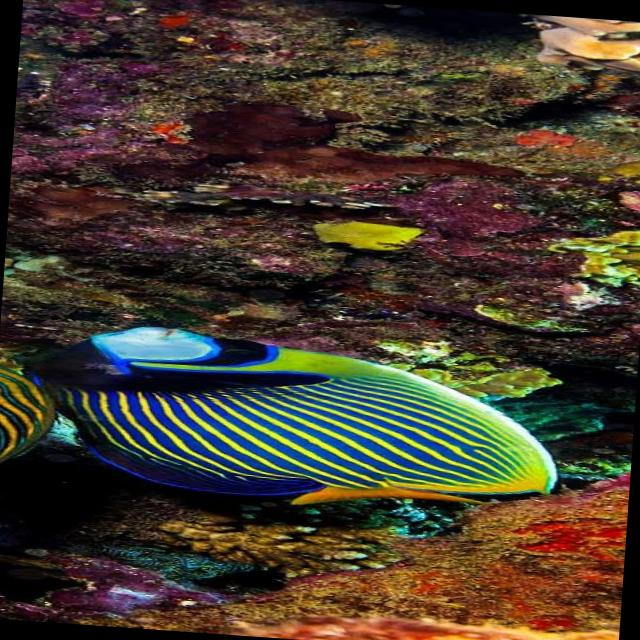ButterflyFish: (56, 296, 600, 536)
